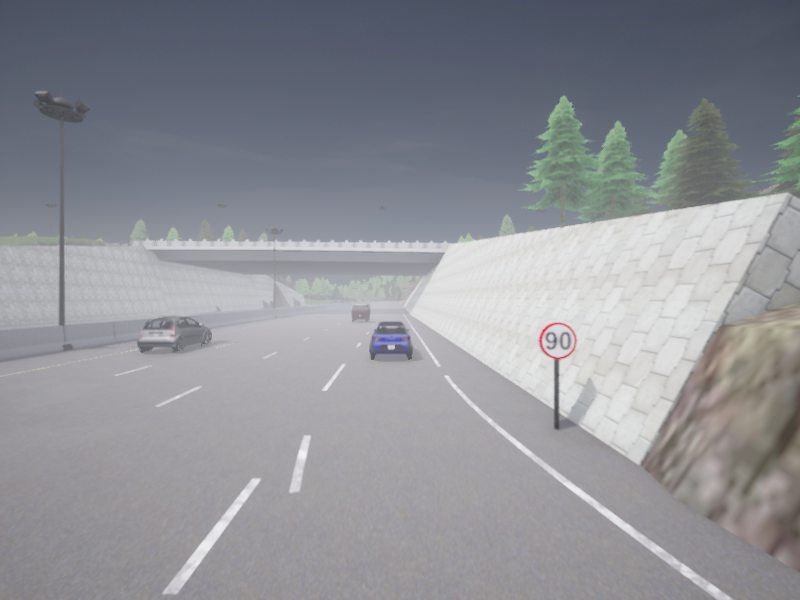vehicle: (137, 316, 211, 352), (370, 321, 412, 358), (352, 303, 370, 321), (365, 303, 370, 308)
